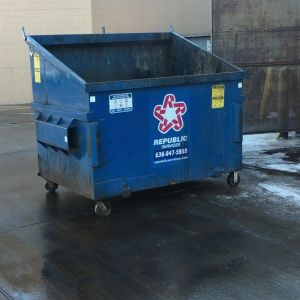Dumpster: (15, 22, 251, 221)
